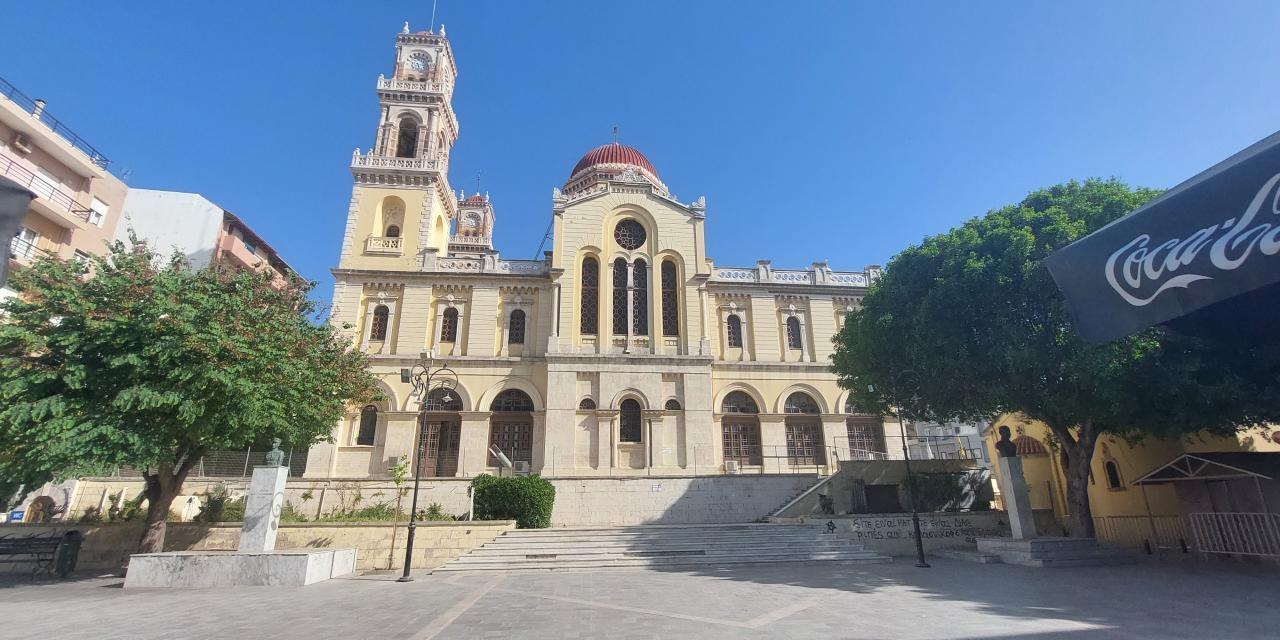Agios Minas: (302, 1, 919, 479)
